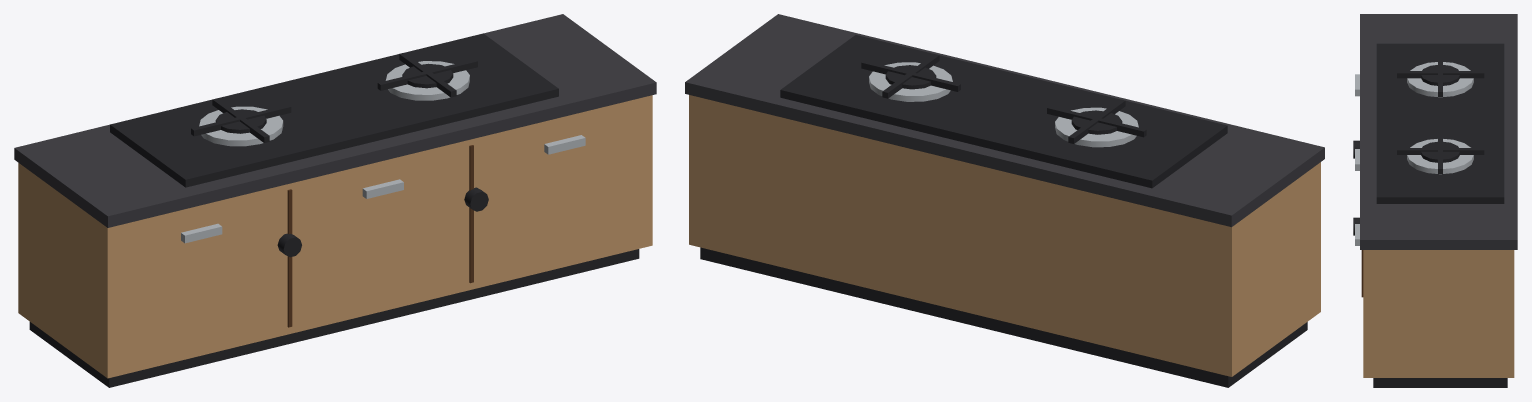
File: gas_stove.glb
3 renders of one model, left to right at view 1: azimuth 30°, elevation 25°; view 2: azimuth 150°, elevation 25°; view 3: azimuth 270°, elevation 25°, orthographic. The views are drawn at different scales.
Parts seen in each view (by area): view 1: gas_stove; view 2: gas_stove; view 3: gas_stove.
Boxes of the visible parts, bbox=[...] form: gas_stove: bbox=[14, 14, 656, 387]; gas_stove: bbox=[685, 14, 1324, 387]; gas_stove: bbox=[1353, 14, 1517, 387].
Bounding box in the file's own units: 2.94 × 1.02 × 0.9046.
